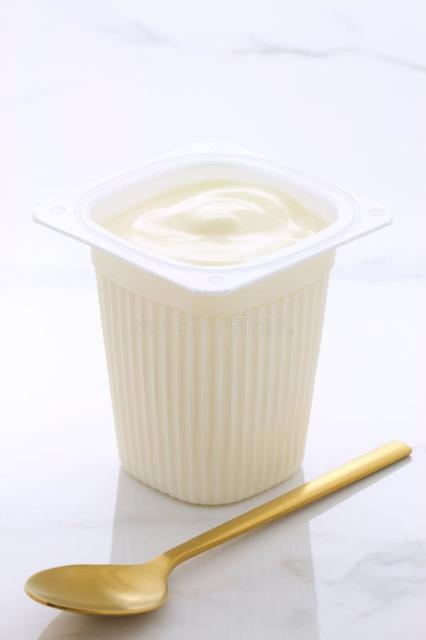yogurt: (32, 145, 392, 505)
